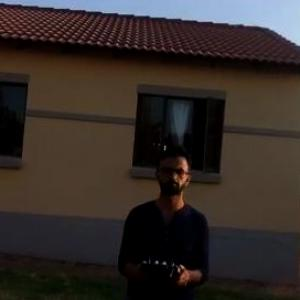follow: (110, 132, 211, 299)
